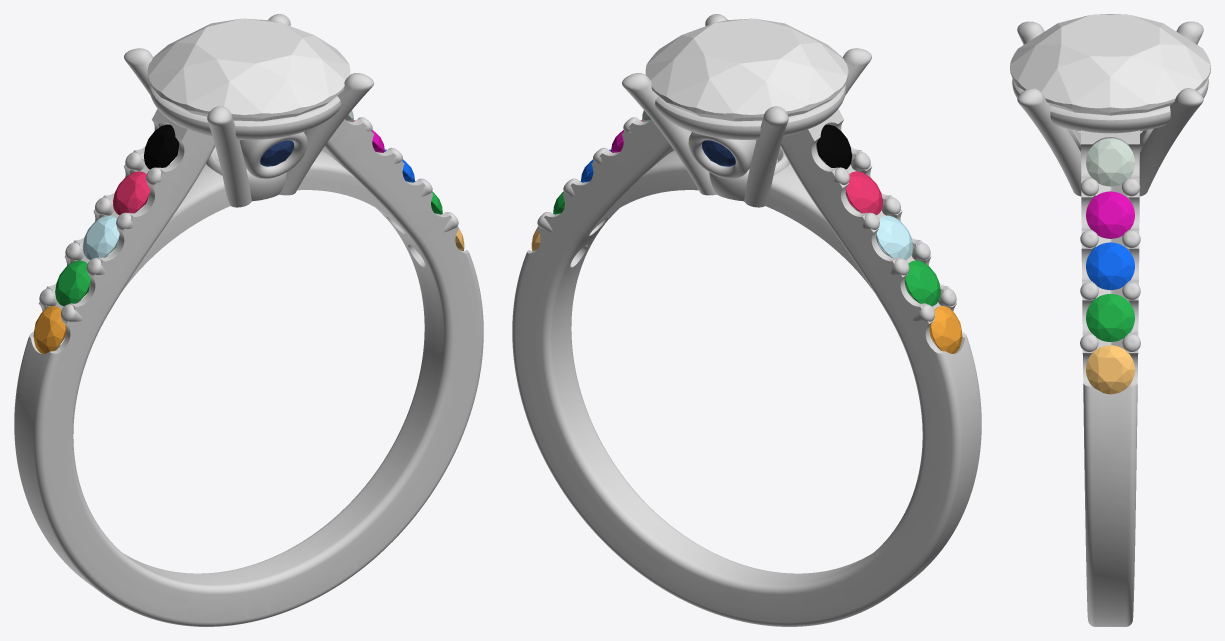
File: JamesPTgemstoneEng.glb
3 views of the same model, side by side, from view 1: azimuth 30°, elevation 25°; view 2: azimuth 150°, elevation 25°; view 3: azimuth 270°, elevation 25° (orthographic).
Visible parts, largest first — view 1: James PT for 3d model, James dia for 3d model, James aqua for 3d model, James jade for 3d model, James ruby for 3d model, James black dia for 3d model, James spessartine garnet for 3d model; view 2: James PT for 3d model, James dia for 3d model, James aqua for 3d model, James jade for 3d model, James ruby for 3d model, James black dia for 3d model, James spessartine garnet for 3d model; view 3: James PT for 3d model, James dia for 3d model, James orange topaz for 3d model, James labradorite for 3d model, James tsavorite for 3d model, James sapph for 3d model, James pink tourmaline for 3d model.
Part boxes in pixels (x1,y1,x2,y2): James PT for 3d model: (14,14,483,626); James dia for 3d model: (147,18,350,140); James aqua for 3d model: (82,215,119,260); James jade for 3d model: (55,260,90,306); James ruby for 3d model: (113,171,150,215); James black dia for 3d model: (144,124,179,169); James spessartine garnet for 3d model: (33,306,66,353); James PT for 3d model: (512,14,981,626); James dia for 3d model: (645,18,848,140); James aqua for 3d model: (876,215,913,260); James jade for 3d model: (905,260,940,306); James ruby for 3d model: (845,171,882,215); James black dia for 3d model: (816,124,852,169); James spessartine garnet for 3d model: (929,306,962,353); James PT for 3d model: (1012,21,1208,626); James dia for 3d model: (1010,14,1210,115); James orange topaz for 3d model: (1086,345,1134,394); James labradorite for 3d model: (1086,138,1134,186); James tsavorite for 3d model: (1086,294,1134,341); James sapph for 3d model: (1086,242,1134,290); James pink tourmaline for 3d model: (1086,191,1134,238).
Size of the model in its own units: 20.94 by 25.58 by 8.2.
